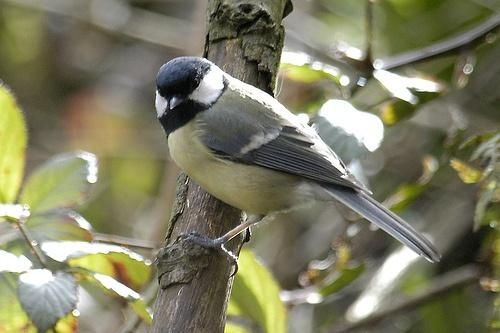bird: (150, 54, 447, 278)
